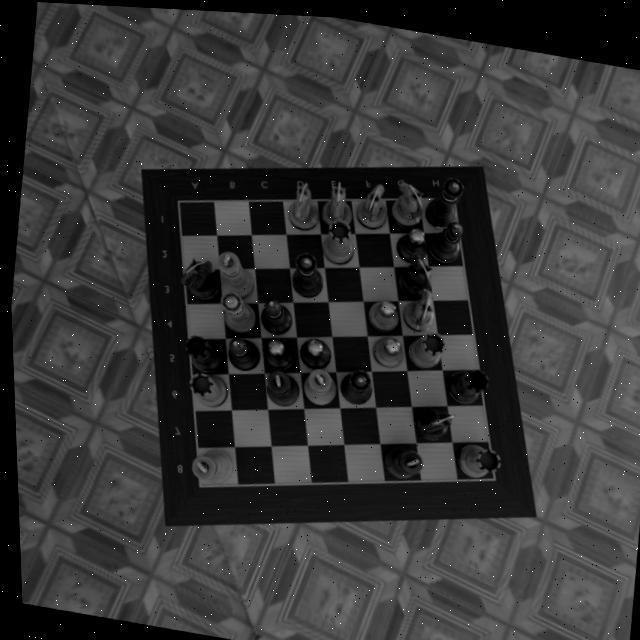chess-table-corners: (442, 178, 468, 210), (186, 472, 213, 498), (482, 461, 497, 485), (171, 192, 184, 210)
